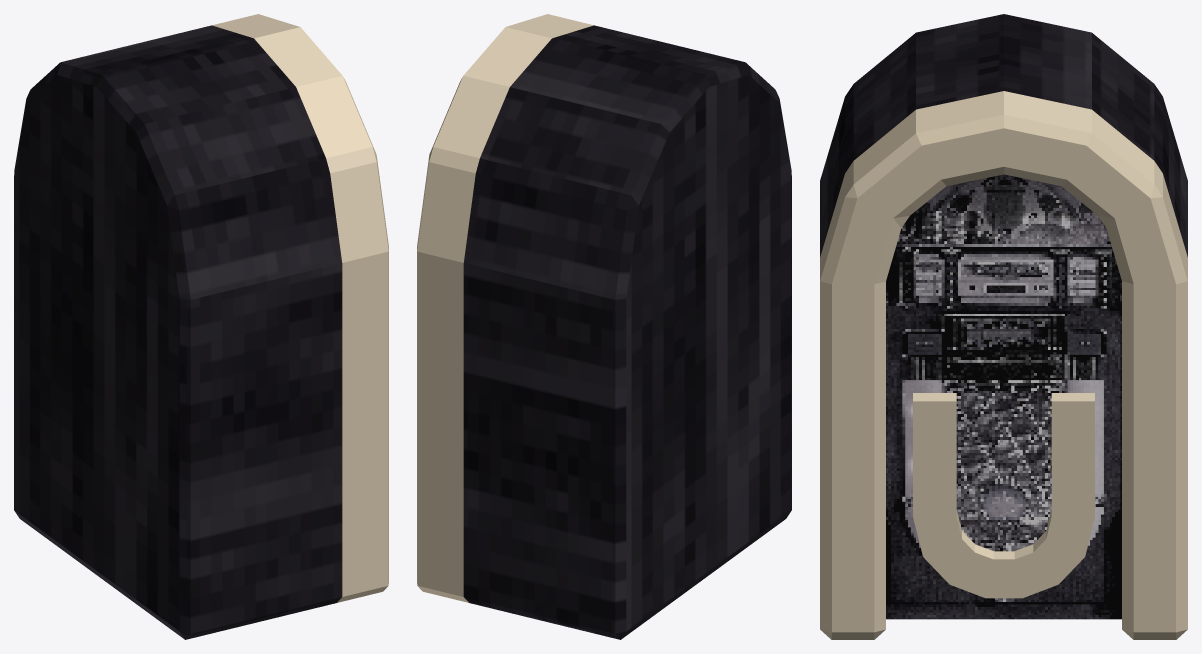
The model's file is pixel_jukebox_lowpoly.fbx.
The picture shows the model from 3 angles, left to right: view 1: azimuth 30°, elevation 25°; view 2: azimuth 150°, elevation 25°; view 3: azimuth 270°, elevation 25°; orthographic projection. The views are drawn at different scales.
Parts seen in each view (by area): view 1: psx_jukebox_wood, psx_jukebox_neon; view 2: psx_jukebox_wood, psx_jukebox_neon; view 3: psx_jukebox_neon, psx_jukebox_base, psx_jukebox_wood, psx_jukebox_neon.001.
Boxes of the visible parts, x1,y1,x2,y2 form: psx_jukebox_wood: (14,25,342,639); psx_jukebox_neon: (212,14,388,602); psx_jukebox_wood: (463,25,791,639); psx_jukebox_neon: (417,14,593,602); psx_jukebox_neon: (820,91,1187,639); psx_jukebox_base: (886,174,1121,619); psx_jukebox_wood: (820,14,1187,256); psx_jukebox_neon.001: (913,393,1094,598).
Size of the model in its own units: 191 by 439 by 279.
